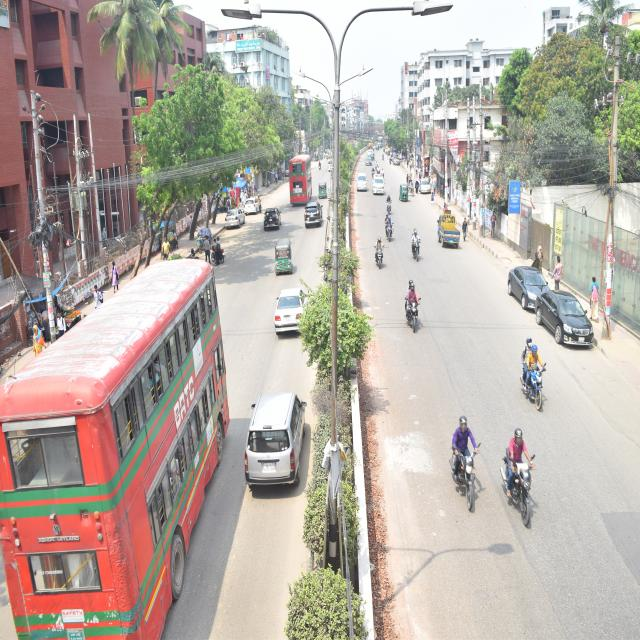bus: (0, 253, 236, 640), (290, 148, 314, 216)
car: (239, 368, 308, 506), (497, 238, 561, 329), (538, 268, 590, 357), (262, 272, 315, 345), (297, 195, 329, 242), (222, 192, 247, 242), (261, 200, 288, 237), (418, 161, 443, 197), (242, 184, 268, 218), (355, 163, 370, 210), (326, 149, 338, 176)
microbus: (371, 168, 391, 209)
motorbike: (426, 392, 487, 626), (502, 402, 554, 528), (509, 321, 553, 412), (402, 270, 432, 343), (207, 220, 229, 269), (371, 232, 388, 271), (408, 226, 424, 263), (382, 210, 396, 247)
pickup-van: (430, 198, 476, 269)
